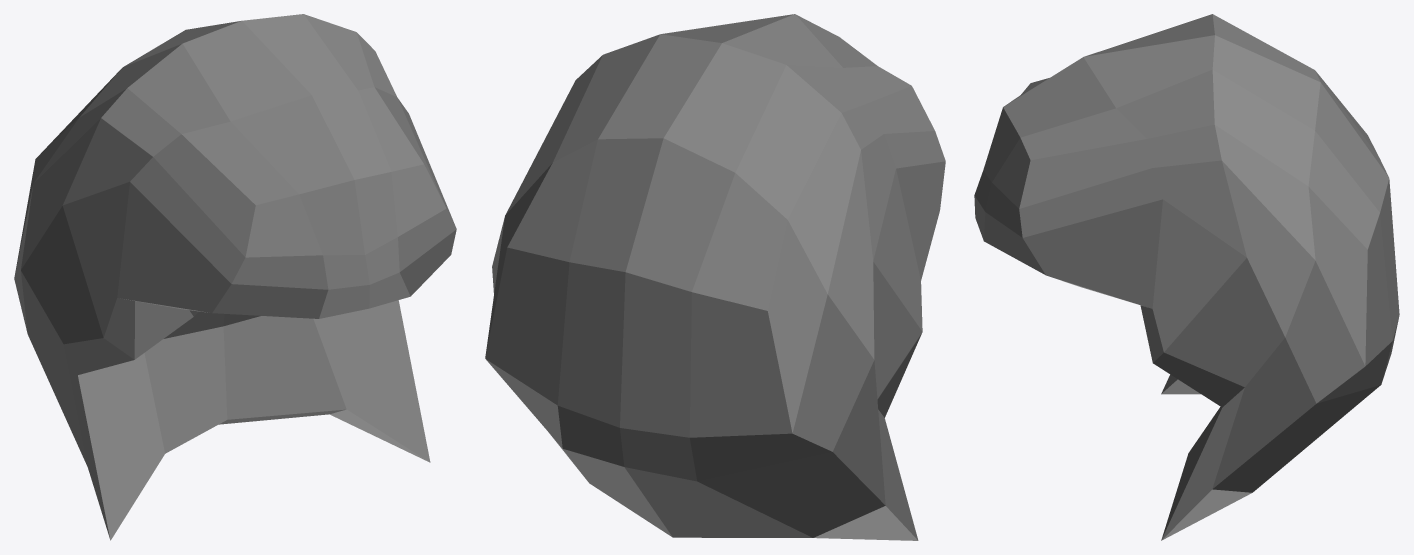
Rendered from hair_bob.fbx.
3 renders of one model, left to right at view 1: azimuth 30°, elevation 25°; view 2: azimuth 150°, elevation 25°; view 3: azimuth 270°, elevation 25°, orthographic. The views are drawn at different scales.
Visible parts, largest first — view 1: Bob; view 2: Bob; view 3: Bob.
Boxes of the visible parts, x1,y1,x2,y2 form: Bob: (14, 14, 456, 540); Bob: (485, 14, 945, 540); Bob: (974, 14, 1399, 540).
Bounding box in the file's own units: 79.61 × 95.31 × 84.93.
